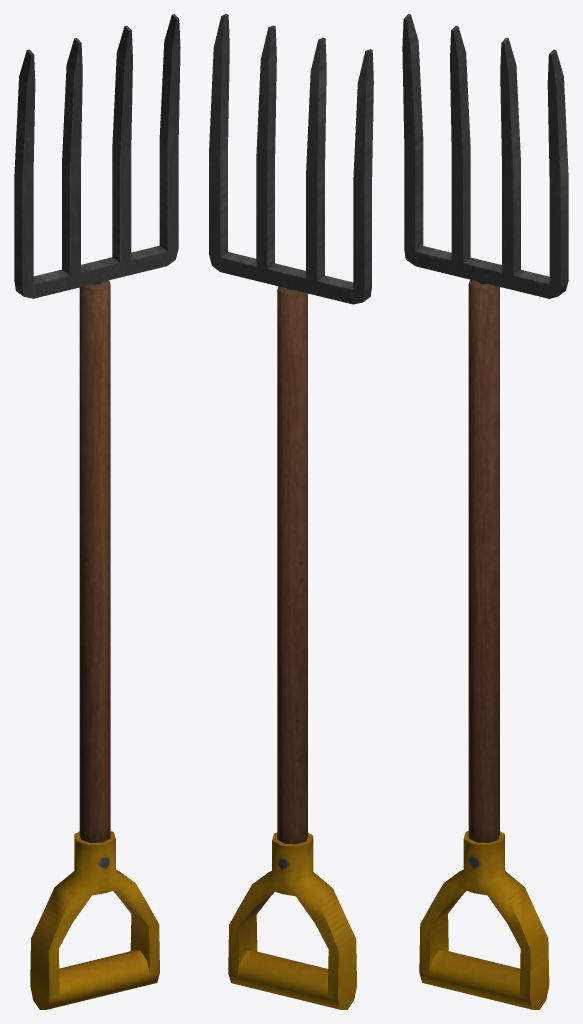
File: GardenFork.fbx
3 renders of one model, left to right at view 1: azimuth 30°, elevation 25°; view 2: azimuth 150°, elevation 25°; view 3: azimuth 330°, elevation 25°, orthographic.
Visible parts, largest first — view 1: Garden fork.001; view 2: Garden fork.001; view 3: Garden fork.001.
Part boxes in pixels (<box>): Garden fork.001: <box>14,14,180,1009</box>; Garden fork.001: <box>209,14,373,1009</box>; Garden fork.001: <box>402,14,568,1009</box>.
Bounding box in the file's own units: 0.121 × 0.7148 × 0.0288.
